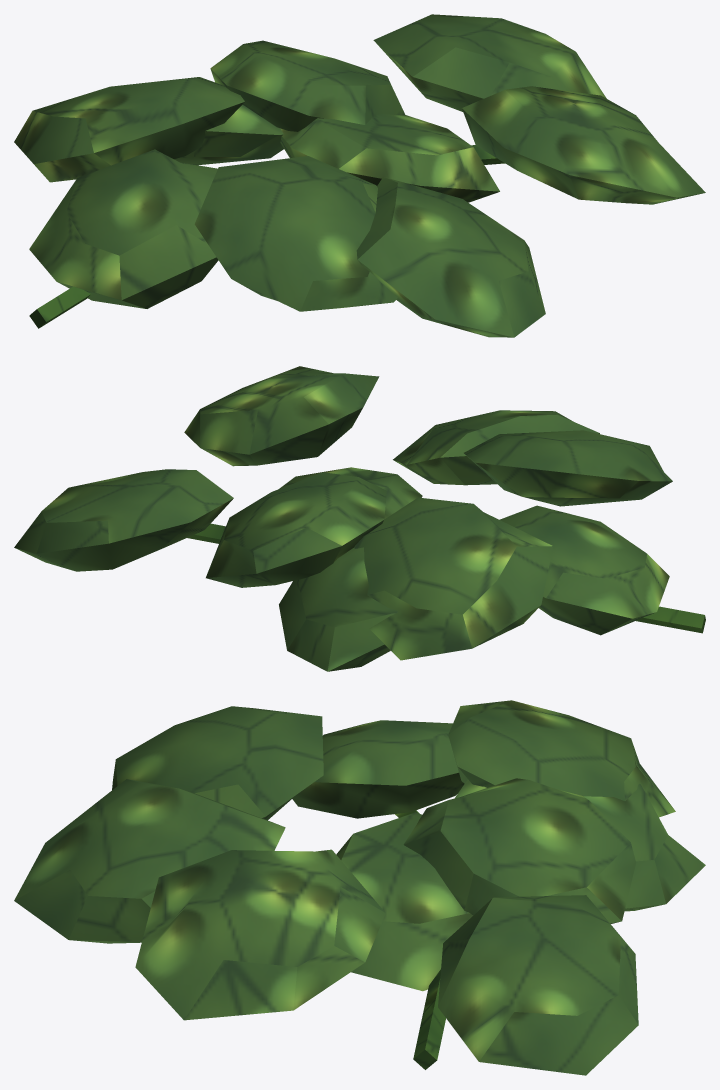
File: pumpkin_vine.gltf
3 renders of one model, top to bottom at view 1: azimuth 30°, elevation 25°; view 2: azimuth 150°, elevation 25°; view 3: azimuth 270°, elevation 25°, orthographic. The views are drawn at different scales.
Visible parts, largest first — view 1: pumpkin_vine_mesh; view 2: pumpkin_vine_mesh; view 3: pumpkin_vine_mesh.
Boxes of the visible parts, left/top/right/bottom form: pumpkin_vine_mesh: left=14, top=14, right=705, bottom=337; pumpkin_vine_mesh: left=14, top=366, right=705, bottom=671; pumpkin_vine_mesh: left=14, top=700, right=705, bottom=1075.
Bounding box in the file's own units: 0.9829 × 0.2016 × 0.8585.
Materials: 2 (2 with a texture image).
